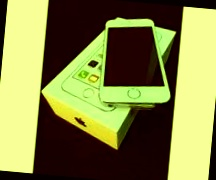iphone: (99, 15, 172, 107)
